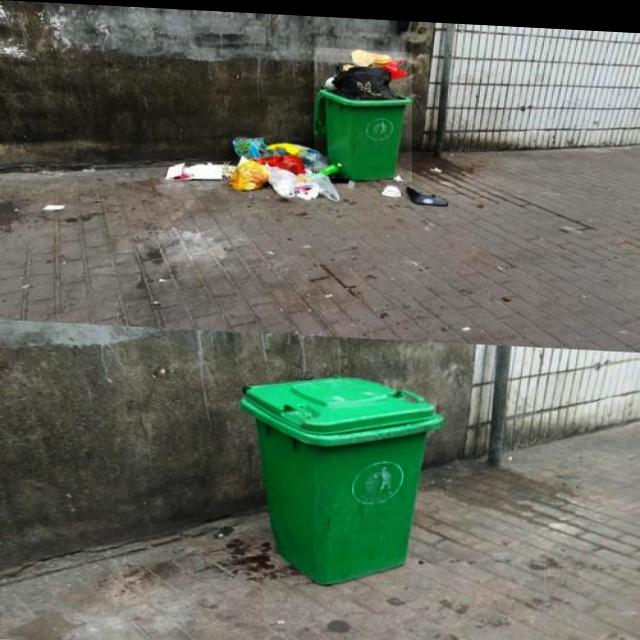garbage: (168, 132, 446, 202)
garbage_bin: (238, 366, 440, 586)
overflow: (314, 44, 412, 178)
